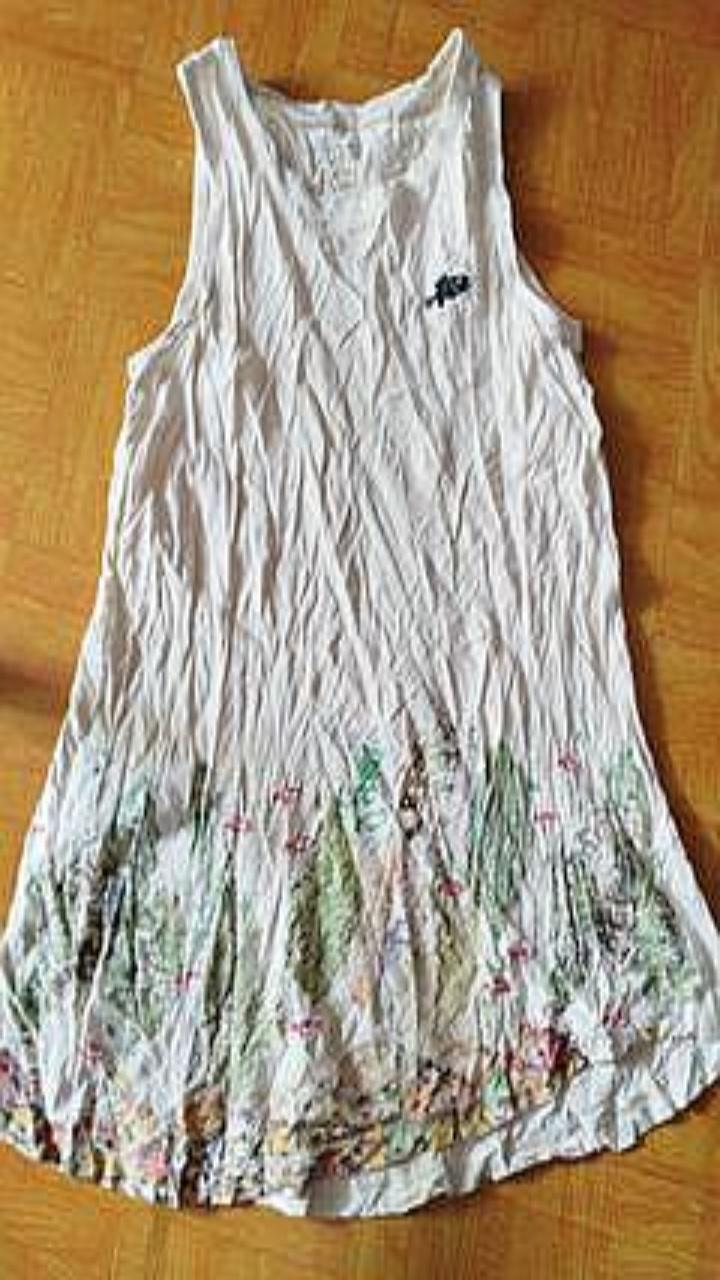Dresses: (0, 27, 719, 1215)
